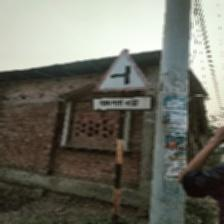Side-road-left: (92, 49, 154, 114)
